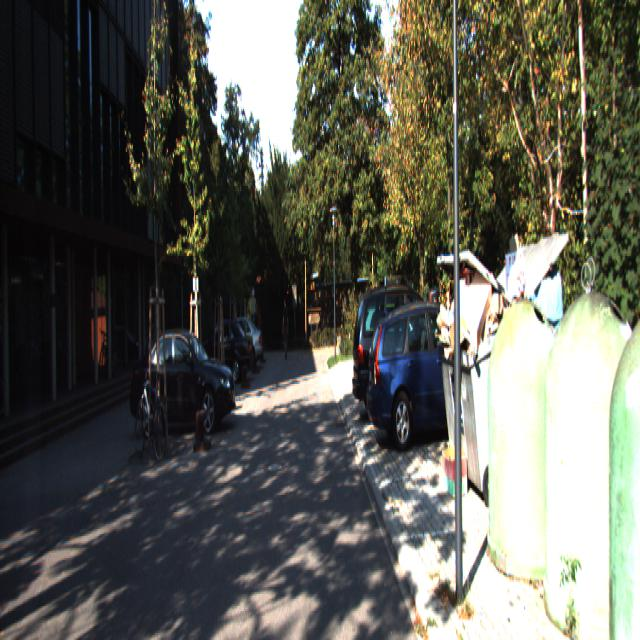Car: (365, 298, 501, 451), (351, 283, 460, 424), (130, 328, 237, 437), (192, 318, 255, 388), (213, 318, 264, 373)
